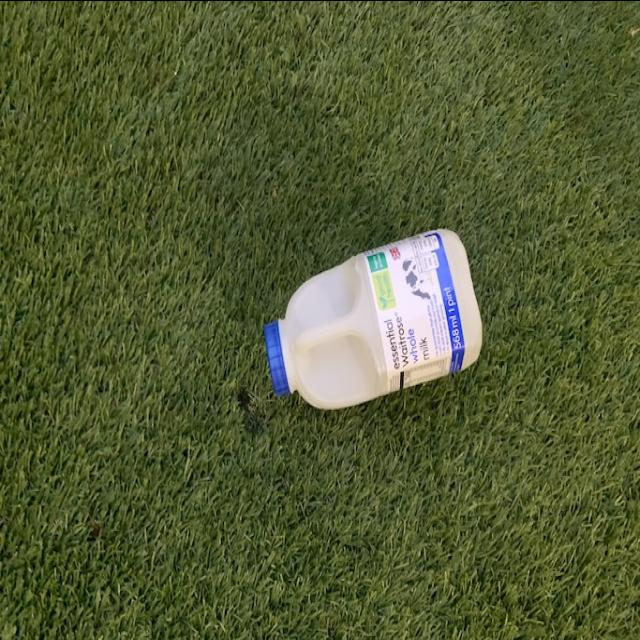litter: (264, 218, 488, 414)
